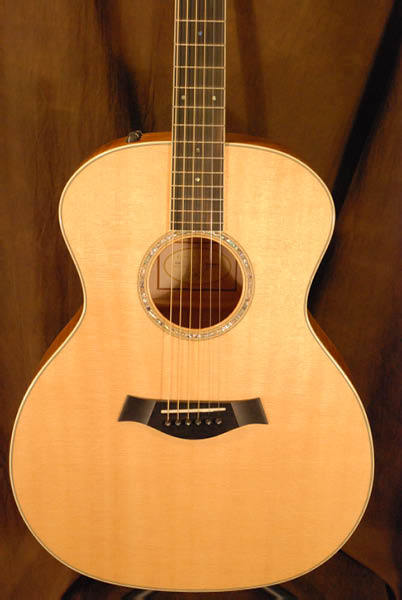guitar: (8, 1, 374, 592)
